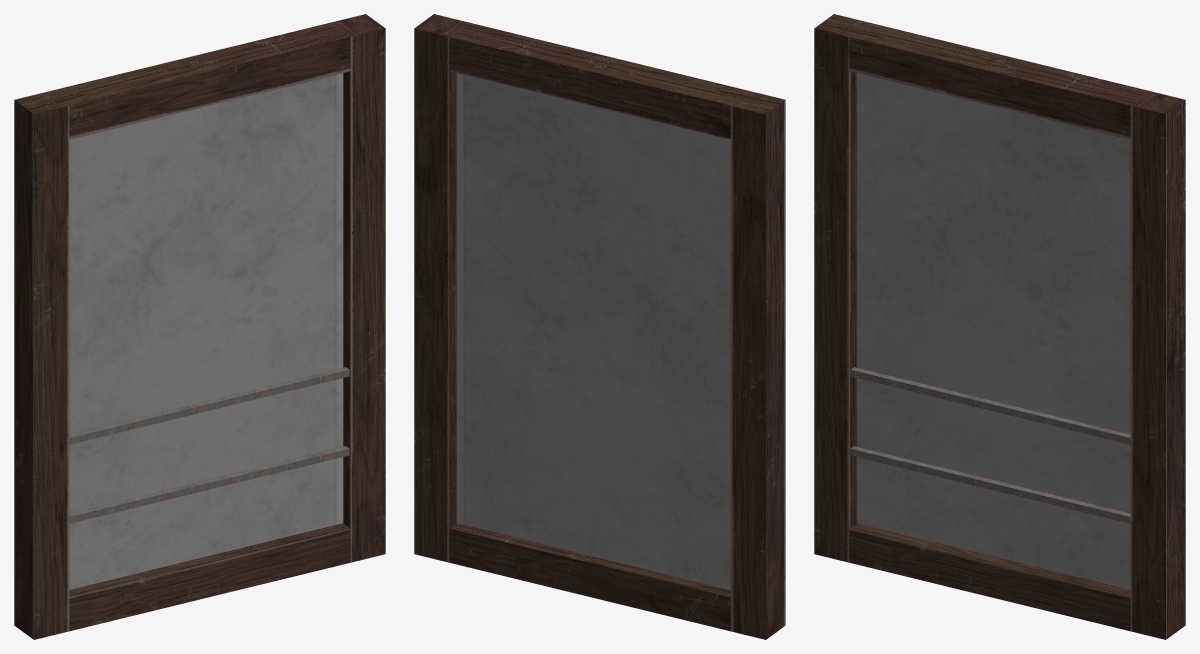
Rendered from WindowSingle.fbx.
The picture shows the model from 3 angles, left to right: view 1: azimuth 30°, elevation 25°; view 2: azimuth 150°, elevation 25°; view 3: azimuth 330°, elevation 25°; orthographic projection.
Parts seen in each view (by area): view 1: GlassWindow, Window, RailingsWindow; view 2: GlassWindow, Window; view 3: GlassWindow, Window, RailingsWindow.
Boxes of the visible parts, x1,y1,x2,y2 form: GlassWindow: (69,73,343,589); Window: (14,14,385,639); RailingsWindow: (69,367,349,523); GlassWindow: (456,73,730,589); Window: (414,14,785,639); GlassWindow: (856,73,1130,589); Window: (814,14,1185,639); RailingsWindow: (850,367,1130,523).
Bounding box in the file's own units: 103 × 147 × 9.99.
Materials: 1 (1 with a texture image).
